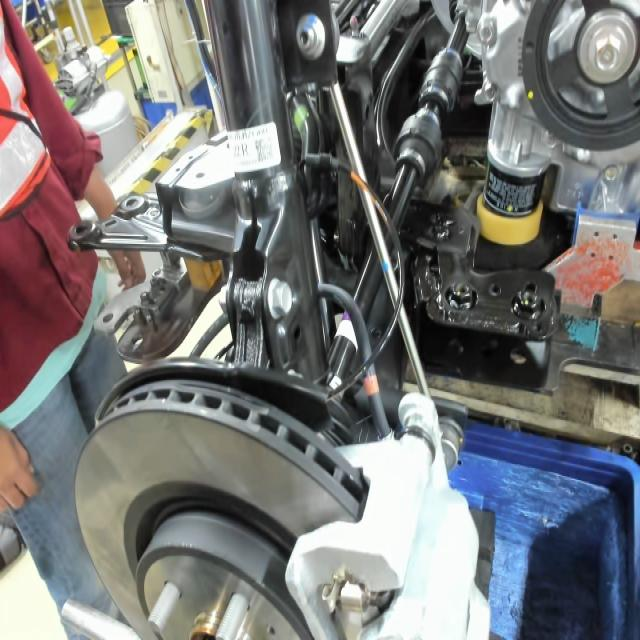Absorber RH-22: (232, 132, 274, 173)
Disc-HT: (119, 477, 288, 625)
Drive Shaft-UG: (334, 308, 367, 354)
